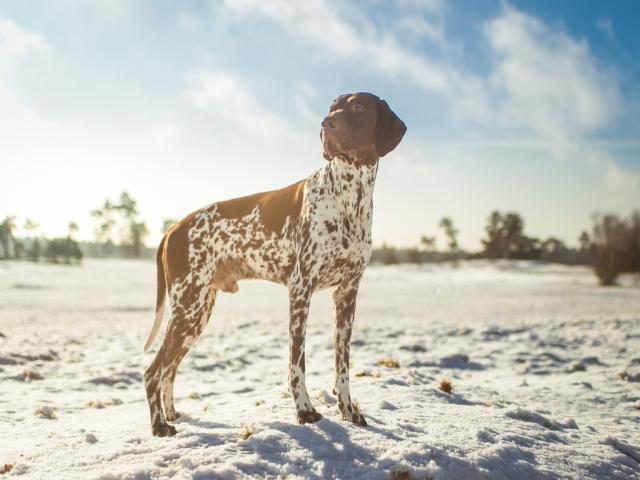Dog: (142, 91, 406, 435)
